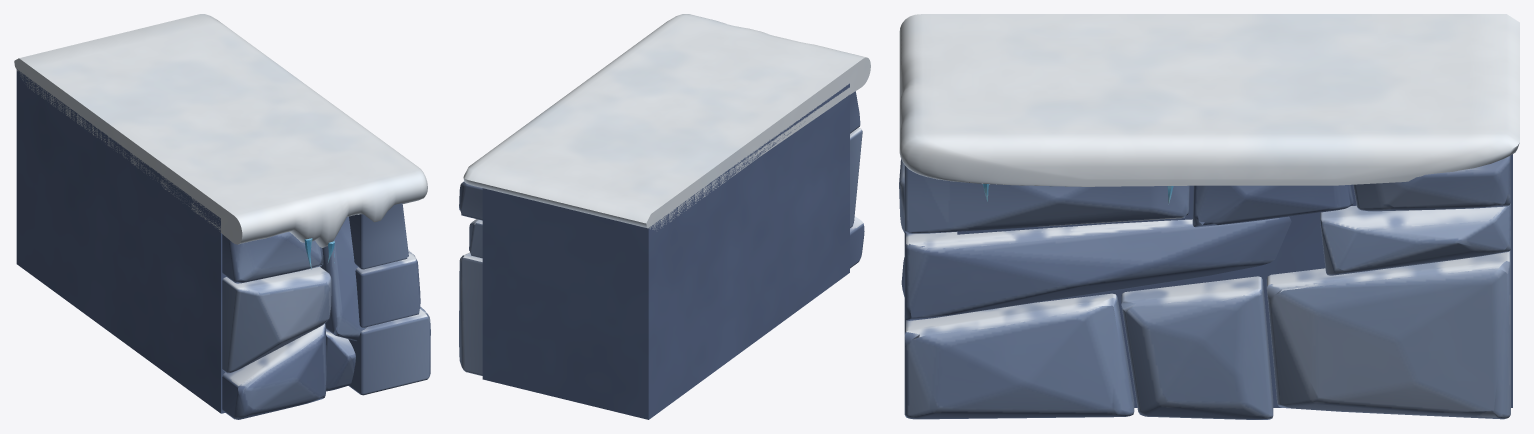
File: FP_T03_SnowCliffEnd_R.fbx
3 renders of one model, left to right at view 1: azimuth 30°, elevation 25°; view 2: azimuth 150°, elevation 25°; view 3: azimuth 270°, elevation 25°, orthographic. The views are drawn at different scales.
Parts seen in each view (by area): view 1: Rock, SnowCap; view 2: Rock, SnowCap; view 3: Rock, SnowCap.
Part boxes in pixels (x1=…): Rock: x1=16, y1=69, x2=430, y2=419; SnowCap: x1=14, y1=14, x2=427, y2=269; Rock: x1=459, y1=83, x2=864, y2=419; SnowCap: x1=463, y1=14, x2=870, y2=229; Rock: x1=899, y1=154, x2=1512, y2=419; SnowCap: x1=899, y1=14, x2=1519, y2=204.
Size of the model in its own units: 2 by 2.01 by 3.99.
